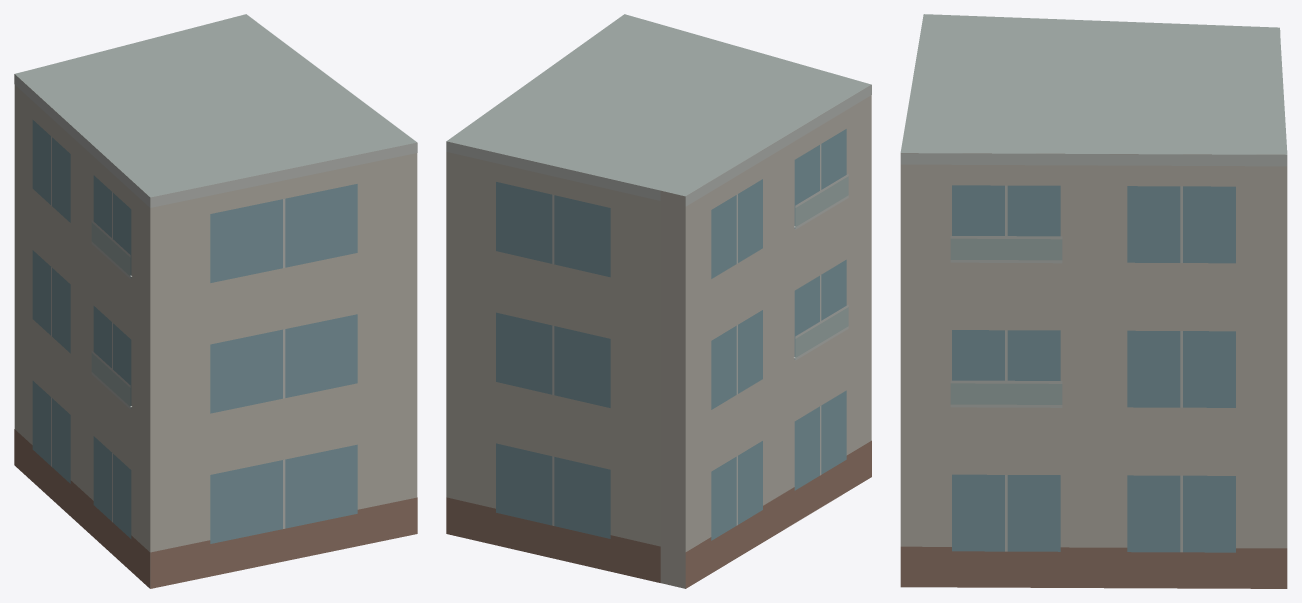
The model's file is survey-upis-32459901.glb.
3 renders of one model, left to right at view 1: azimuth 30°, elevation 25°; view 2: azimuth 150°, elevation 25°; view 3: azimuth 270°, elevation 25°, orthographic. The views are drawn at different scales.
Visible parts, largest first — view 1: survey-upis-32459901.tmp; view 2: survey-upis-32459901.tmp; view 3: survey-upis-32459901.tmp.
Part boxes in pixels (<box>): survey-upis-32459901.tmp: <box>14,14,417,588</box>; survey-upis-32459901.tmp: <box>446,14,871,588</box>; survey-upis-32459901.tmp: <box>900,14,1287,588</box>.
Size of the model in its own units: 6.37 by 9.15 by 7.4.
